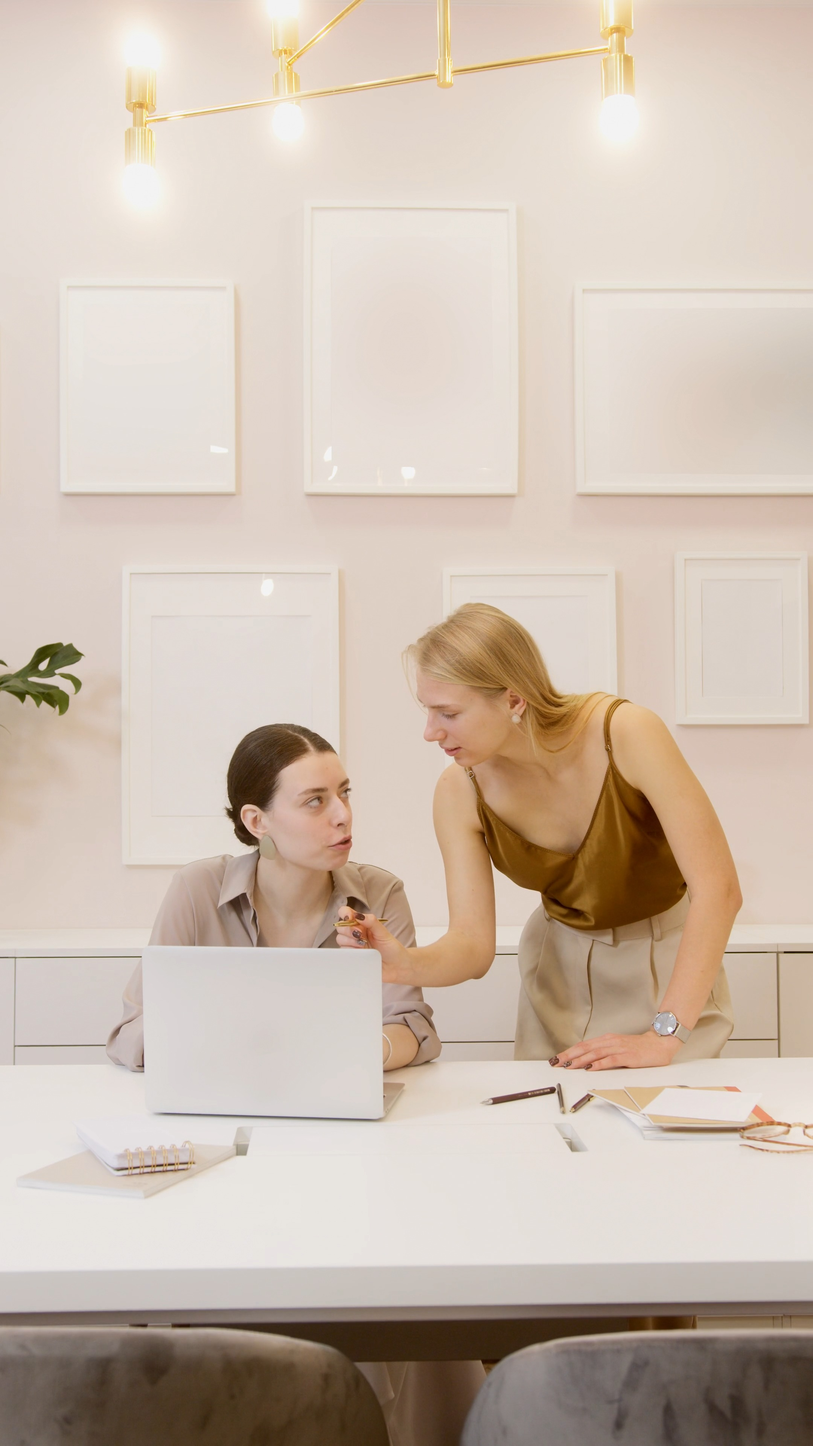No-gloves: (542, 1011, 714, 1081), (329, 894, 428, 983)
